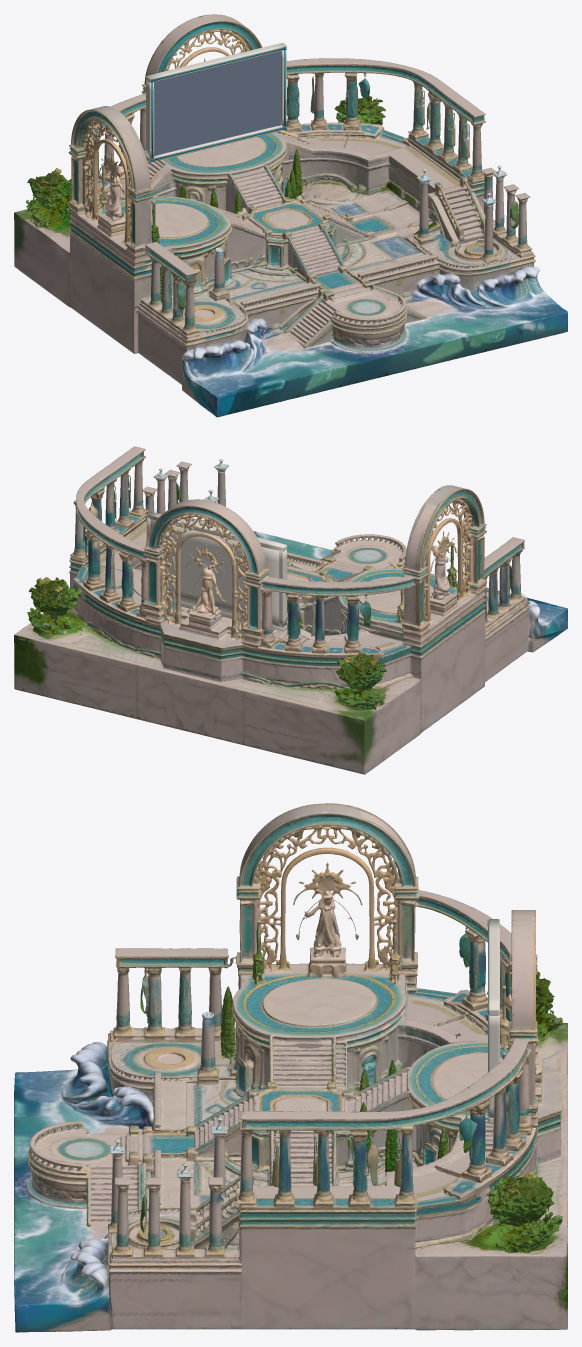
Rendered from kfb-meshy-marble-terraces.screen-a.v1.glb.
3 views of the same model, one above another, from view 1: azimuth 30°, elevation 25°; view 2: azimuth 150°, elevation 25°; view 3: azimuth 270°, elevation 25° (orthographic). The views are drawn at different scales.
Visible parts, largest first — view 1: marble_terraces, kfb_screen_slot, kfb_screen_frame; view 2: marble_terraces, kfb_screen_frame; view 3: marble_terraces, kfb_screen_frame.
Boxes of the visible parts, x1,y1,x2,y2 form: marble_terraces: [14, 14, 567, 417]; kfb_screen_slot: [154, 51, 281, 155]; kfb_screen_frame: [146, 43, 286, 162]; marble_terraces: [14, 446, 567, 774]; kfb_screen_frame: [146, 511, 287, 631]; marble_terraces: [14, 803, 567, 1332]; kfb_screen_frame: [487, 919, 499, 1123].
Bounding box in the file's own units: 1.9 × 1.12 × 1.88.
4 materials, 1 textured.
